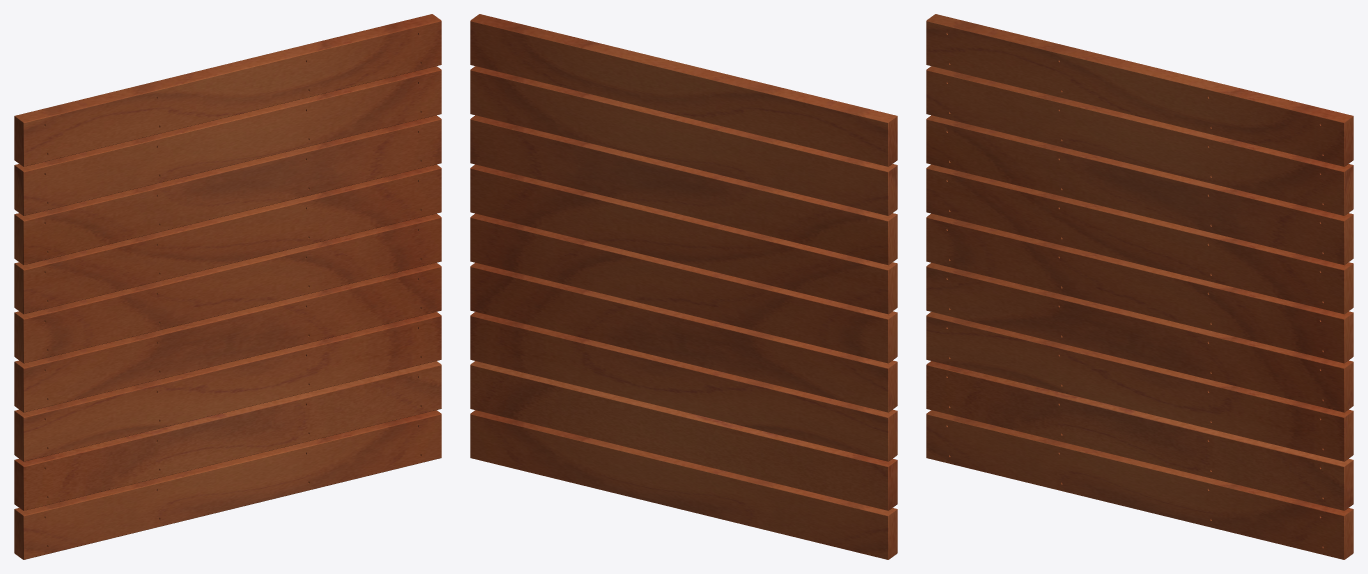
Rendered from woodboard.obj.
3 renders of one model, left to right at view 1: azimuth 30°, elevation 25°; view 2: azimuth 150°, elevation 25°; view 3: azimuth 330°, elevation 25°, orthographic.
Parts seen in each view (by area): view 1: Plane; view 2: Plane; view 3: Plane.
Part boxes in pixels (x1,y1,x2,y2): Plane: (14,14,441,559); Plane: (470,14,897,559); Plane: (926,14,1353,559).
Bounding box in the file's own units: 0.5 × 0.5 × 0.02.
1 material, 1 textured.
